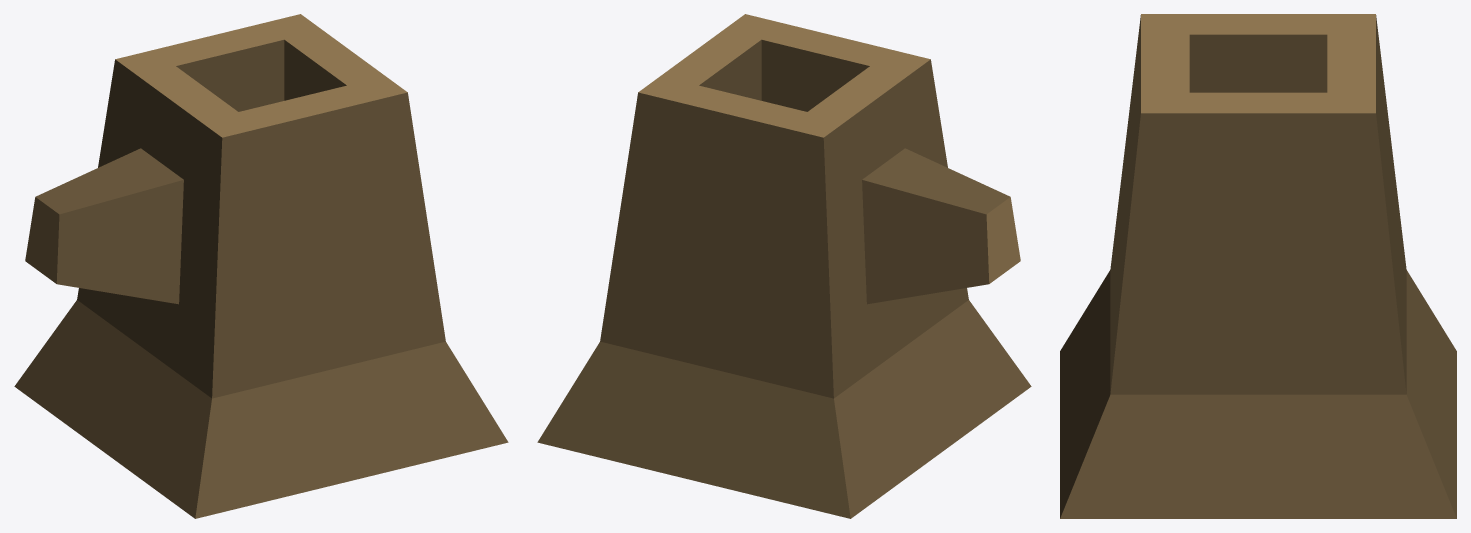
File: Trunk_Alt_01.obj
3 views of the same model, side by side, from view 1: azimuth 30°, elevation 25°; view 2: azimuth 150°, elevation 25°; view 3: azimuth 270°, elevation 25° (orthographic). The views are drawn at different scales.
Parts seen in each view (by area): view 1: Mesh1_Trunk_Alt_Model; view 2: Mesh1_Trunk_Alt_Model; view 3: Mesh1_Trunk_Alt_Model.
Part boxes in pixels (left/top/right/bottom): Mesh1_Trunk_Alt_Model: left=14, top=14, right=508, bottom=518; Mesh1_Trunk_Alt_Model: left=537, top=14, right=1031, bottom=518; Mesh1_Trunk_Alt_Model: left=1060, top=14, right=1456, bottom=518.
Size of the model in its own units: 0.9675 by 0.83 by 0.8037.
